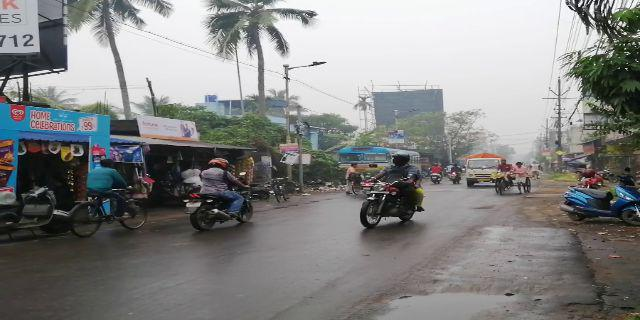Motorbike: (357, 154, 423, 234), (187, 159, 257, 232), (560, 189, 640, 225)
